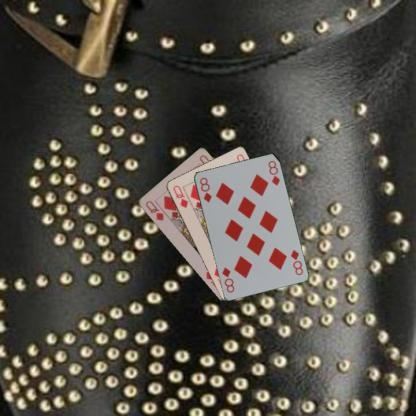8d: (197, 174, 213, 204), (288, 247, 304, 276)
Qd: (142, 198, 165, 222), (170, 182, 189, 210)
